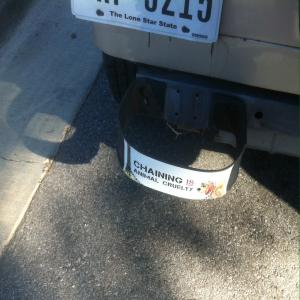Vehicle-registration-plate: (72, 1, 224, 43)
